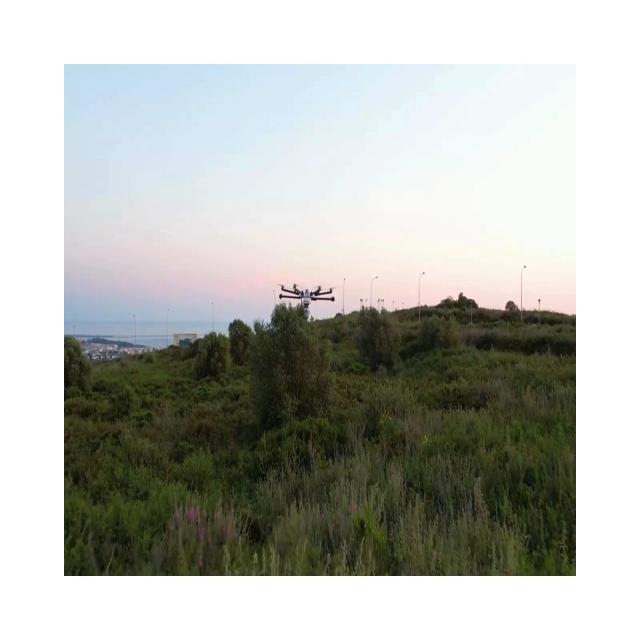drone: (276, 282, 335, 317)
